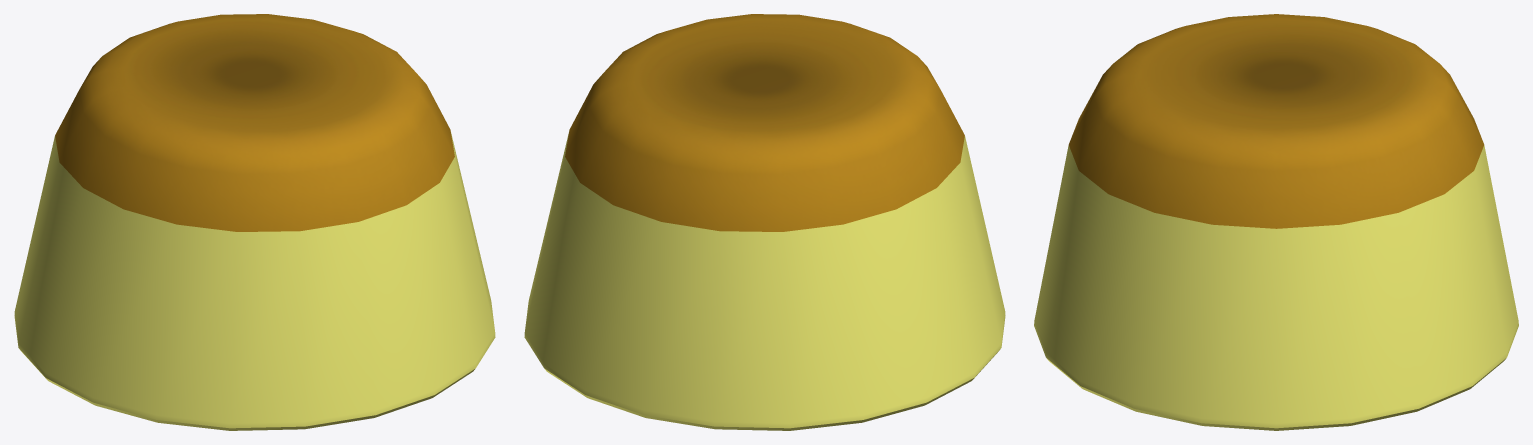
File: Flan.fbx
3 views of the same model, side by side, from view 1: azimuth 30°, elevation 25°; view 2: azimuth 150°, elevation 25°; view 3: azimuth 270°, elevation 25° (orthographic).
Parts seen in each view (by area): view 1: pCylinder1; view 2: pCylinder1; view 3: pCylinder1.
Part boxes in pixels (box(x1,y1,x2,y2)): pCylinder1: box(14, 14, 495, 430); pCylinder1: box(524, 14, 1005, 430); pCylinder1: box(1034, 14, 1518, 430).
Bounding box in the file's own units: 1.97 × 1.15 × 1.97.
